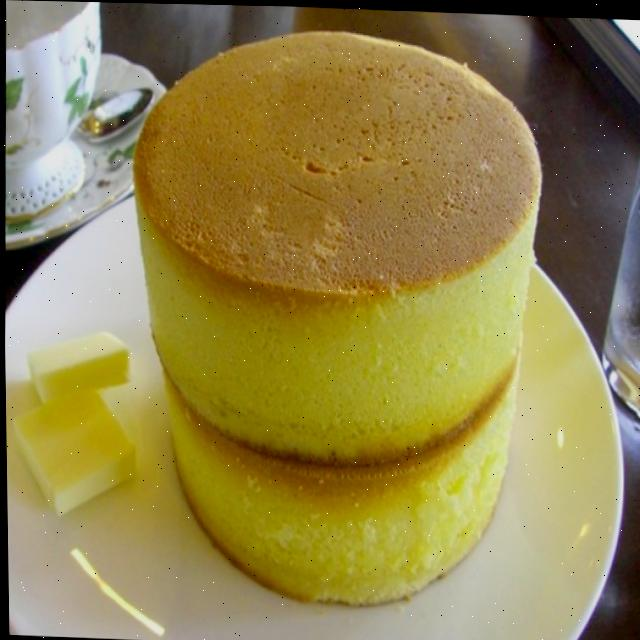蛋糕甜品: (76, 1, 610, 635)
